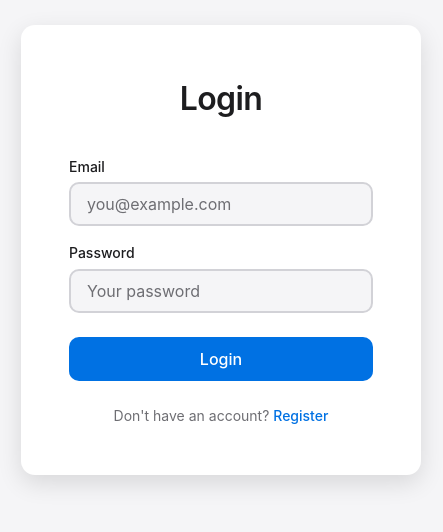
Test: LoginPage › shows error when password is empty
The width and height of the screenshot is (443, 532).
Step 1. Type "test@test.com" into the field labelled "Email" → [221, 204], box [69,182,373,226]
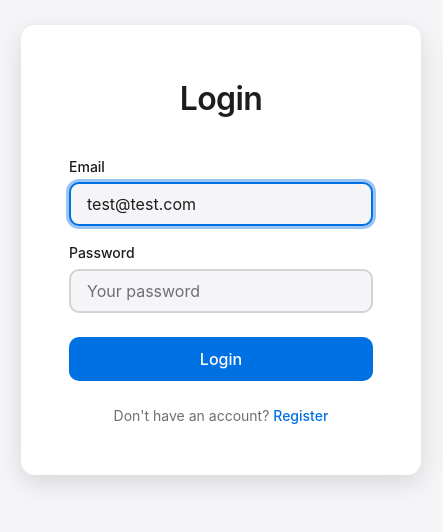
Step 2. Click the button "Login" → [221, 359], box [69,337,373,381]
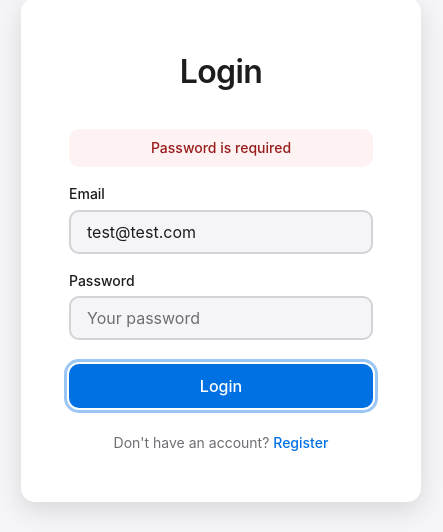
Expected: the message reads "Password is required", [151,139,291,156]
